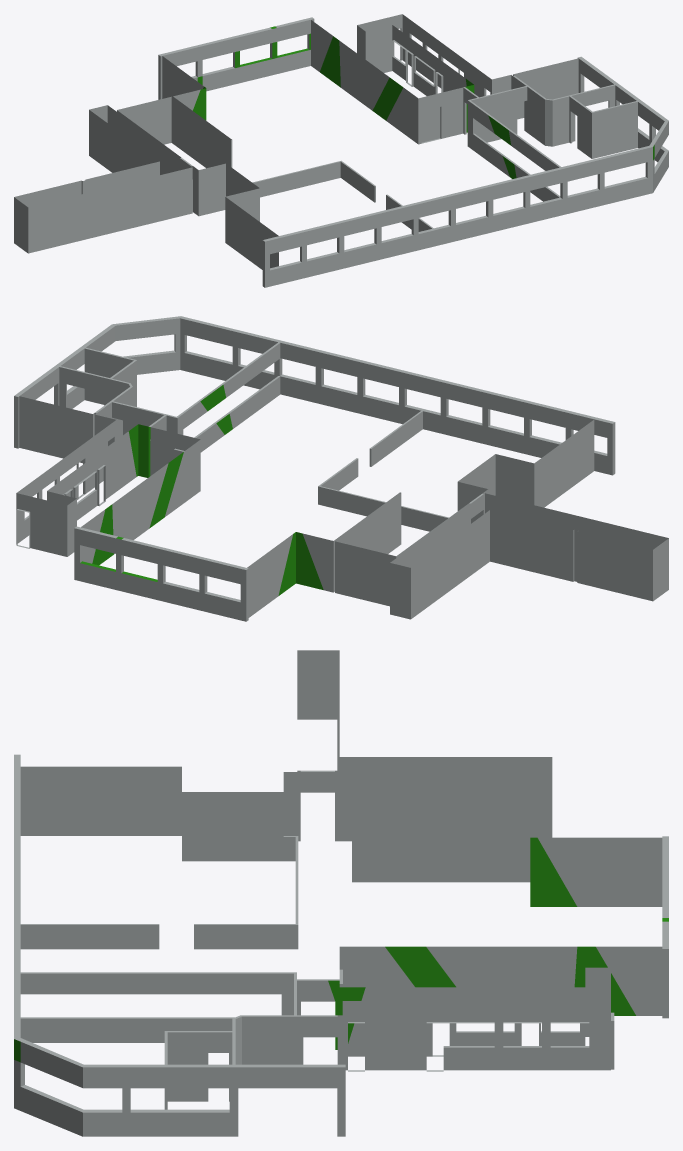
The model's file is Paredes.fbx.
3 views of the same model, one above another, from view 1: azimuth 30°, elevation 25°; view 2: azimuth 150°, elevation 25°; view 3: azimuth 270°, elevation 25° (orthographic). The views are drawn at different scales.
Visible parts, largest first — view 1: Line001, Rectangle002, Rectangle017, Line005, Line002, Line006; view 2: Line001, Rectangle002, Rectangle017, Line006, Line002, Line005; view 3: Line001, Rectangle002, Line006, Line002, Line005, Rectangle017.
Part boxes in pixels (x1,y1,x2,y2): Line001: (14, 14, 578, 269); Rectangle002: (262, 59, 668, 287); Rectangle017: (158, 17, 314, 99); Line005: (569, 96, 637, 158); Line002: (512, 75, 615, 146); Line006: (252, 160, 433, 231); Line001: (16, 342, 668, 619); Rectangle002: (17, 316, 615, 475); Rectangle017: (74, 526, 248, 621); Line006: (318, 411, 448, 531); Line002: (59, 366, 132, 439); Line005: (84, 347, 136, 406); Line001: (20, 650, 662, 1071); Rectangle002: (14, 754, 337, 1136); Line006: (20, 836, 298, 949); Line002: (232, 1015, 337, 1064); Line005: (164, 1031, 232, 1109); Rectangle017: (662, 836, 668, 1018).
Size of the model in its own units: 1548 by 120 by 1027.
